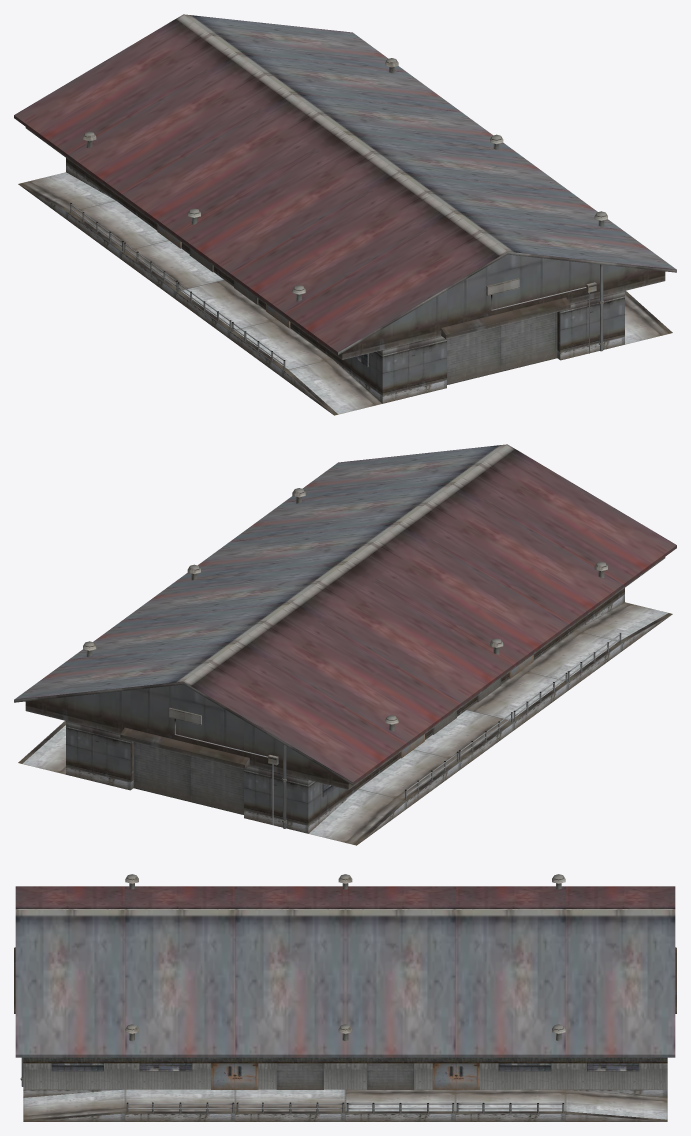
Rendered from ind-warehouse-5.lod1.glb.
3 renders of one model, top to bottom at view 1: azimuth 30°, elevation 25°; view 2: azimuth 150°, elevation 25°; view 3: azimuth 270°, elevation 25°, orthographic.
Parts seen in each view (by area): view 1: Industrial_Warehouse_5_Industrial_Walls_FLR_1_0, Industrial_Warehouse_5_Material #140_0; view 2: Industrial_Warehouse_5_Industrial_Walls_FLR_1_0, Industrial_Warehouse_5_Material #140_0; view 3: Industrial_Warehouse_5_Industrial_Walls_FLR_1_0, Industrial_Warehouse_5_Material #140_0.
Part boxes in pixels (left/top/right/bottom): Industrial_Warehouse_5_Industrial_Walls_FLR_1_0: left=14, top=14, right=676, bottom=395; Industrial_Warehouse_5_Material #140_0: left=18, top=164, right=672, bottom=415; Industrial_Warehouse_5_Industrial_Walls_FLR_1_0: left=14, top=444, right=676, bottom=828; Industrial_Warehouse_5_Material #140_0: left=18, top=594, right=672, bottom=845; Industrial_Warehouse_5_Industrial_Walls_FLR_1_0: left=14, top=874, right=676, bottom=1113; Industrial_Warehouse_5_Material #140_0: left=23, top=1063, right=667, bottom=1121.
Bounding box in the file's own units: 33 × 11.68 × 54.94.
2 materials, 2 textured.
